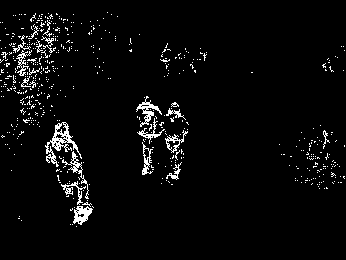person: (42, 120, 93, 228), (162, 99, 188, 185), (135, 95, 162, 176)
